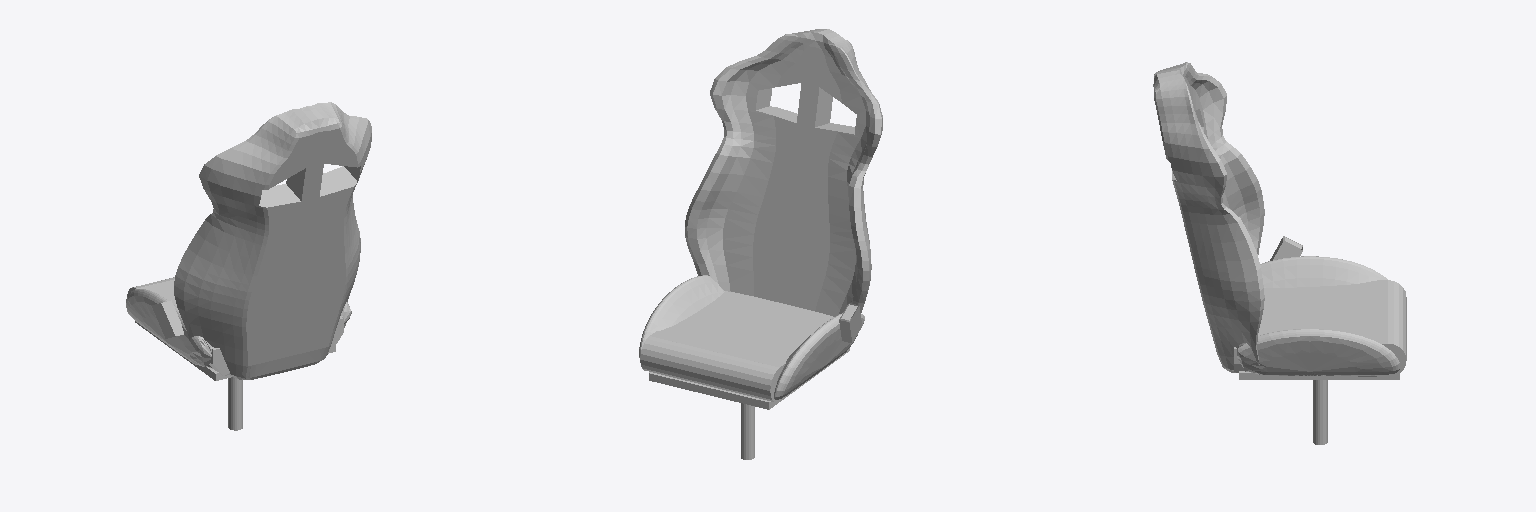
Rendered from silla2.obj.
3 renders of one model, left to right at view 1: azimuth 30°, elevation 25°; view 2: azimuth 150°, elevation 25°; view 3: azimuth 270°, elevation 25°, orthographic.
Parts seen in each view (by area): view 1: tablerocontrol:polySurface10 sillacabina:polySurface27; view 2: tablerocontrol:polySurface10 sillacabina:polySurface27; view 3: tablerocontrol:polySurface10 sillacabina:polySurface27.
Boxes of the visible parts, x1,y1,x2,y2 form: tablerocontrol:polySurface10 sillacabina:polySurface27: [126, 102, 371, 430]; tablerocontrol:polySurface10 sillacabina:polySurface27: [639, 29, 882, 459]; tablerocontrol:polySurface10 sillacabina:polySurface27: [1153, 62, 1406, 444].
Bounding box in the file's own units: 0.1634 × 0.3124 × 0.1924.